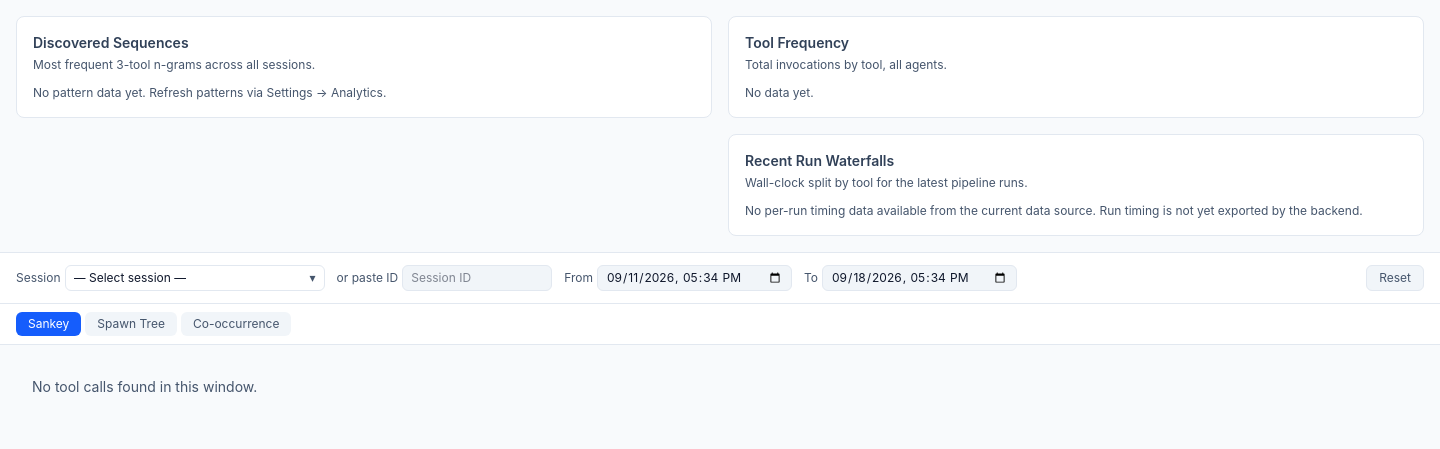
it: workflowsView › renders session dropdown options from useSessions
The width and height of the screenshot is (1440, 449).
Click the dropdown labelled "— Select session — ▾". click: (130, 278)
box: x1=65 y1=265 x2=325 y2=291
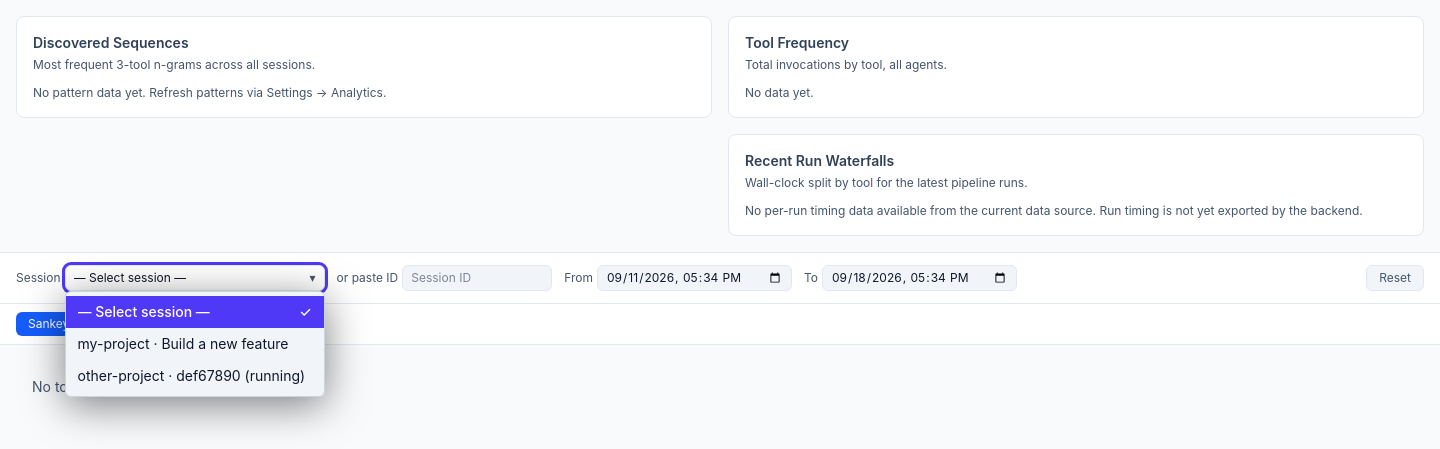
Check: the number of options is 3, box x1=66 y1=296 x2=324 y2=328; x1=78 y1=335 x2=289 y2=352; x1=78 y1=367 x2=305 y2=384
Check: the option "— Select session — ✓" is shown, box x1=66 y1=296 x2=324 y2=328
Check: the option "my-project · Build a new feature" is shown, box x1=78 y1=335 x2=289 y2=352
